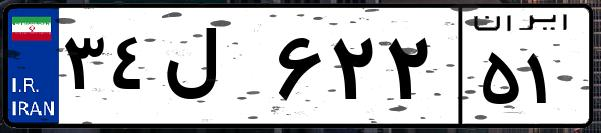1: (525, 38, 570, 115)
2: (385, 28, 445, 110), (330, 28, 385, 110)
3: (57, 26, 110, 100)
4: (110, 28, 158, 98)
5: (475, 38, 525, 113)
6: (270, 28, 330, 110)
ل: (158, 20, 270, 120)
